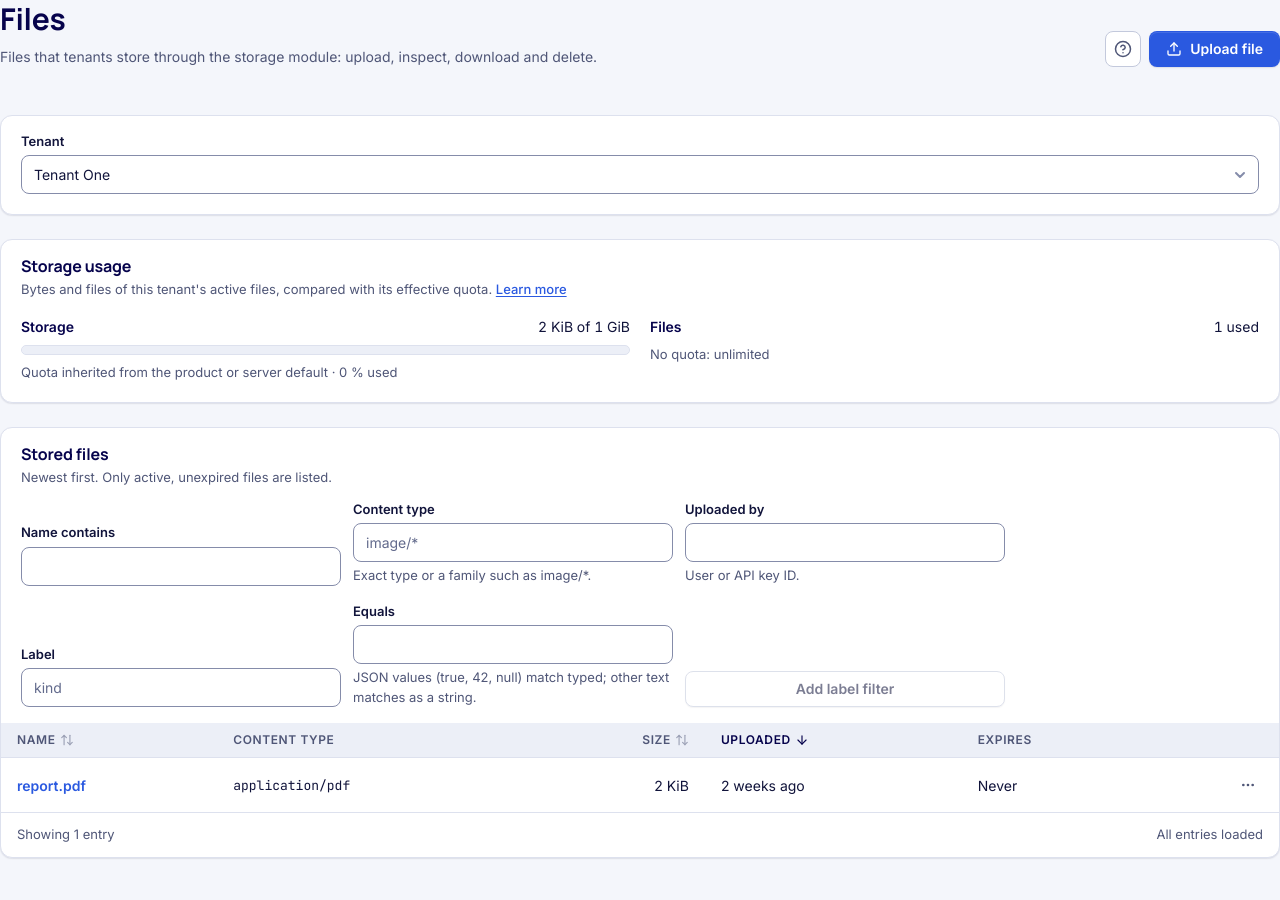
Test: FilesPage › shows the product content-type policy in the upload dialog
Click the button "Upload file".
click(1215, 48)  # box x1=1149 y1=30 x2=1279 y2=66
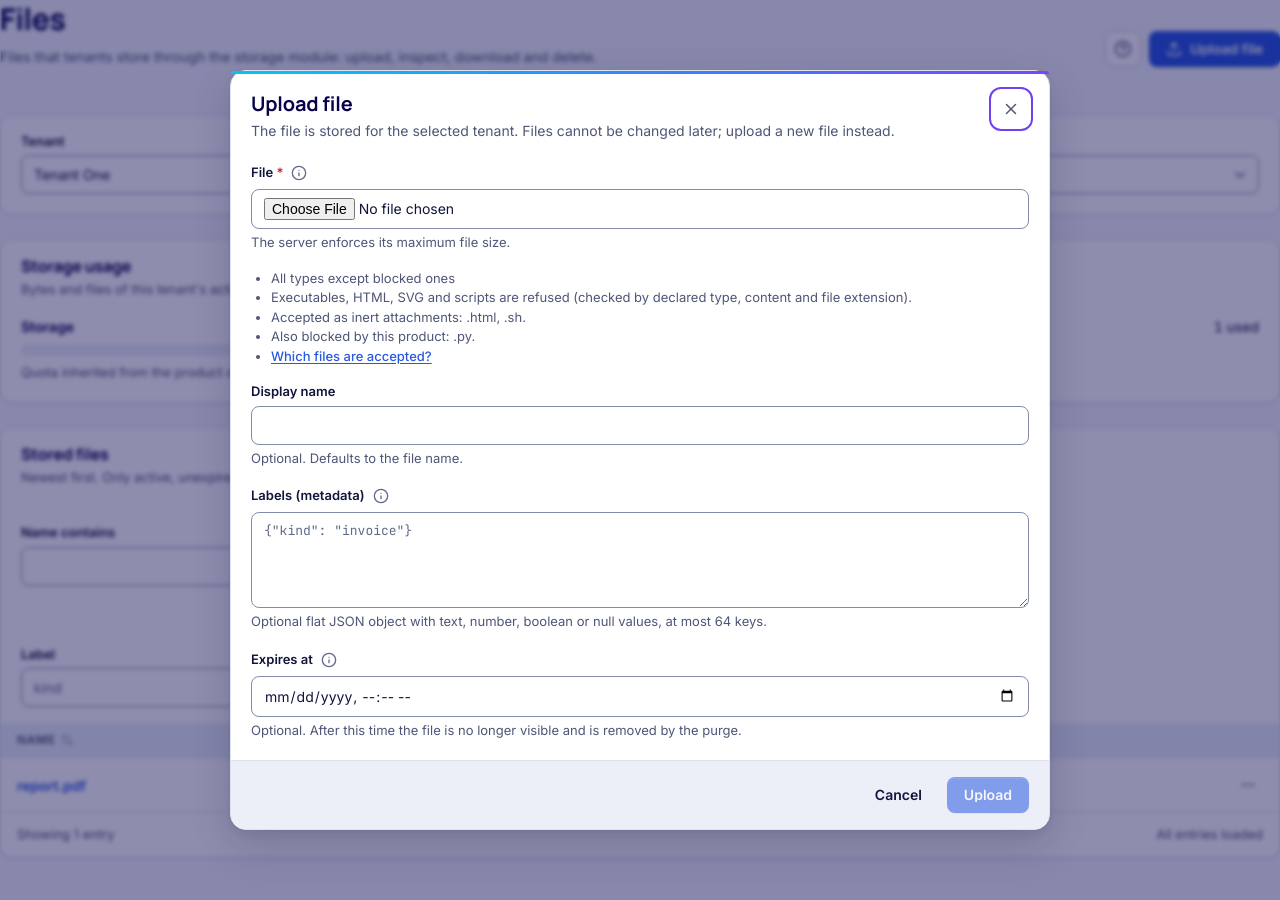
Result: the list item "Accepted as inert attachments: .html, .sh." is shown at x1=271 y1=308 x2=526 y2=324
Result: the list item "Also blocked by this product: .py." is shown at x1=271 y1=328 x2=475 y2=344
Result: the list item "are refused (checked by declared type" is shown at x1=271 y1=289 x2=912 y2=305
